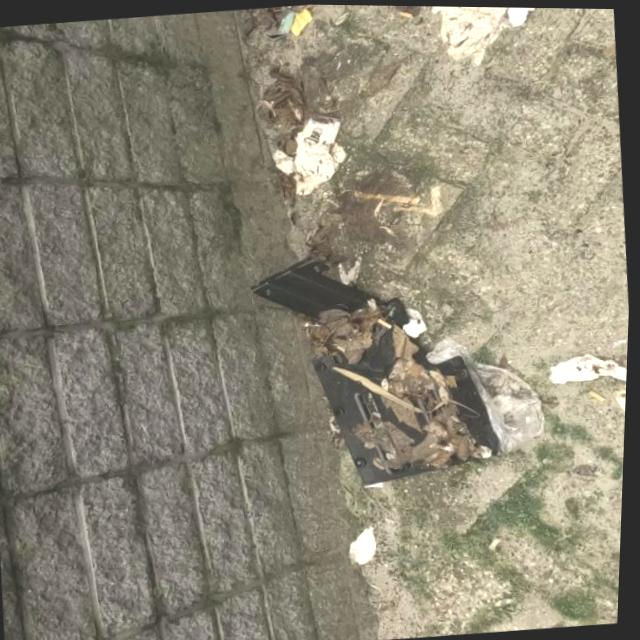Paper: (425, 5, 511, 70), (269, 139, 350, 196), (546, 345, 630, 390), (299, 112, 343, 151), (347, 523, 383, 566), (504, 6, 564, 27), (612, 385, 629, 413)
Plastic: (276, 6, 312, 37)
